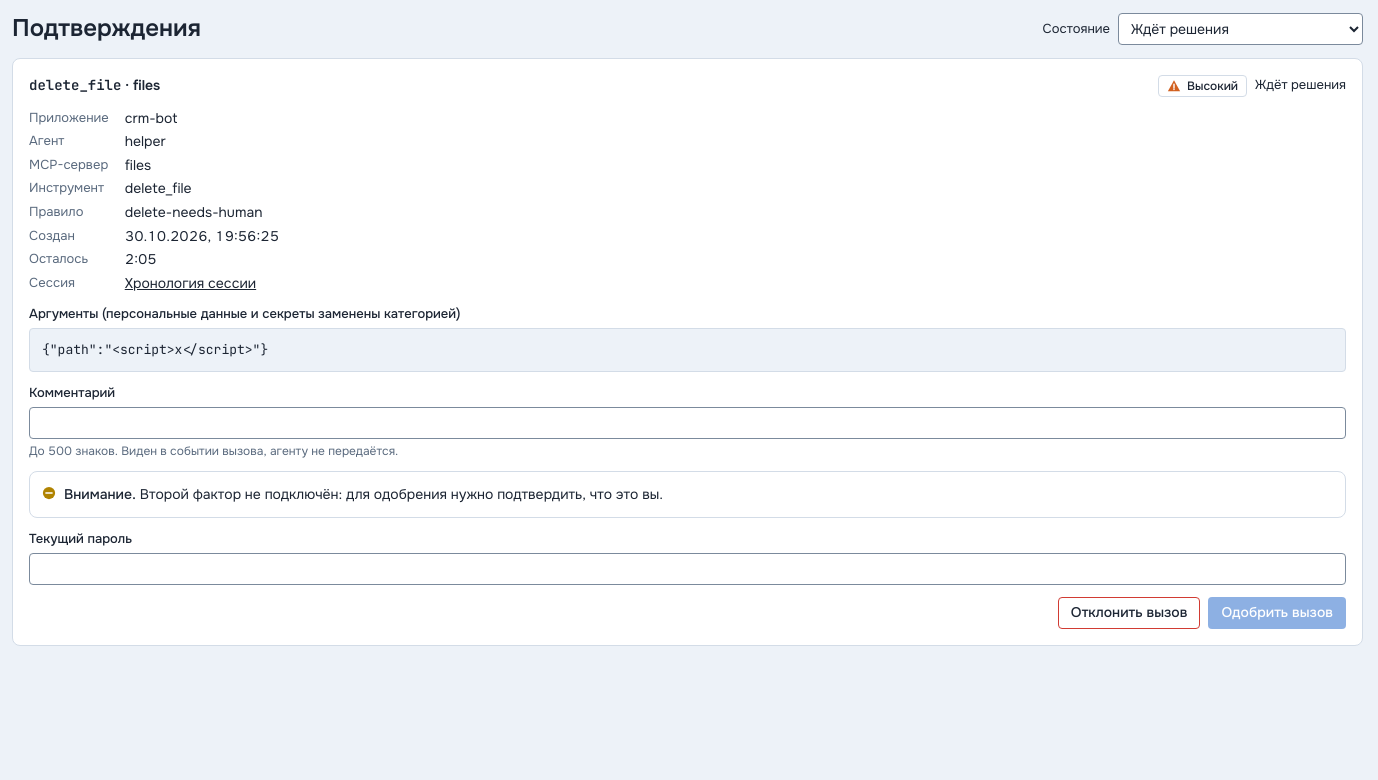
Test: экран «Подтверждения» › 403 сервера показывается сообщением
Expected: the text "{\"path\":\"<script>x</script>\"}" is shown, [29,328,1346,372]
Step 1. Click the button "Отклонить вызов" → (1129, 613), box [1058,597,1200,629]
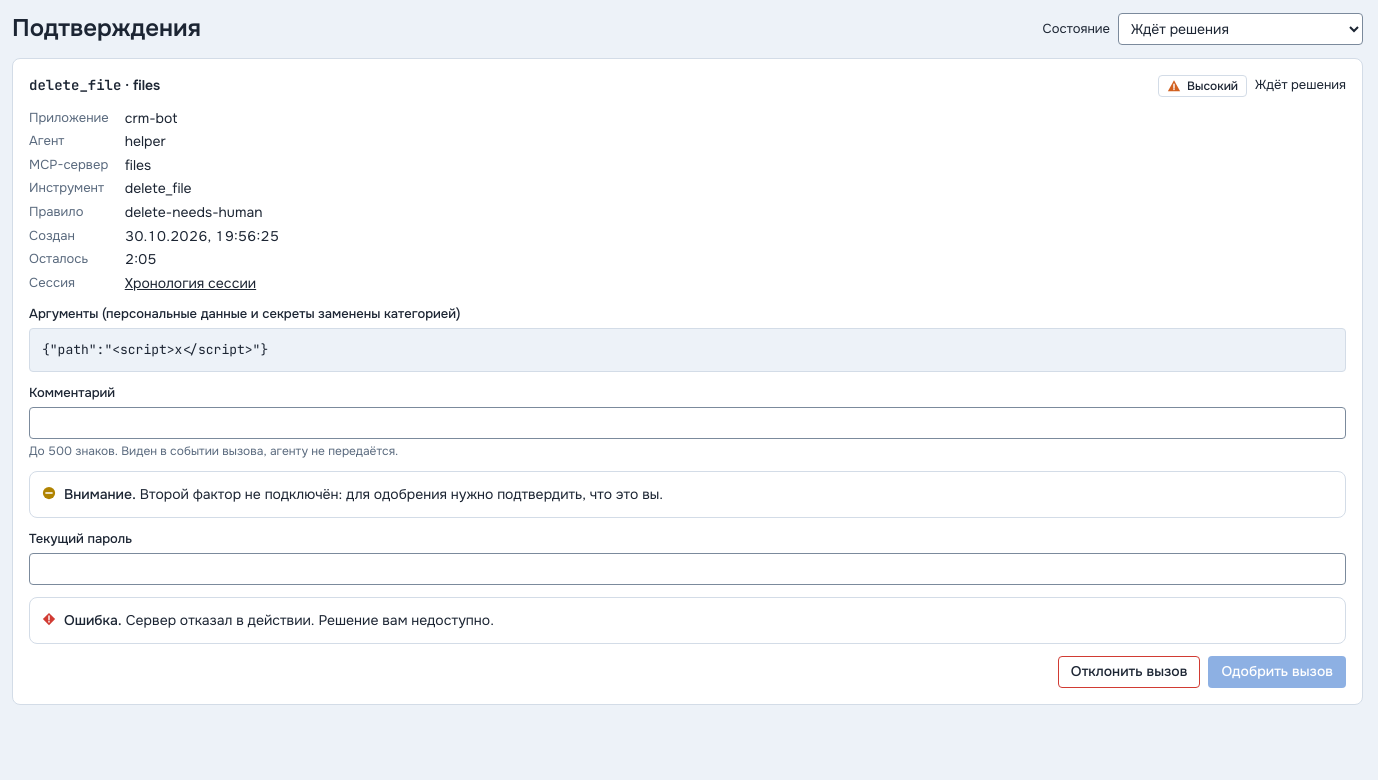
Now the text "Ошибка. Сервер отказал в действии. Решение вам недоступно." is shown, box [64,610,494,631]
